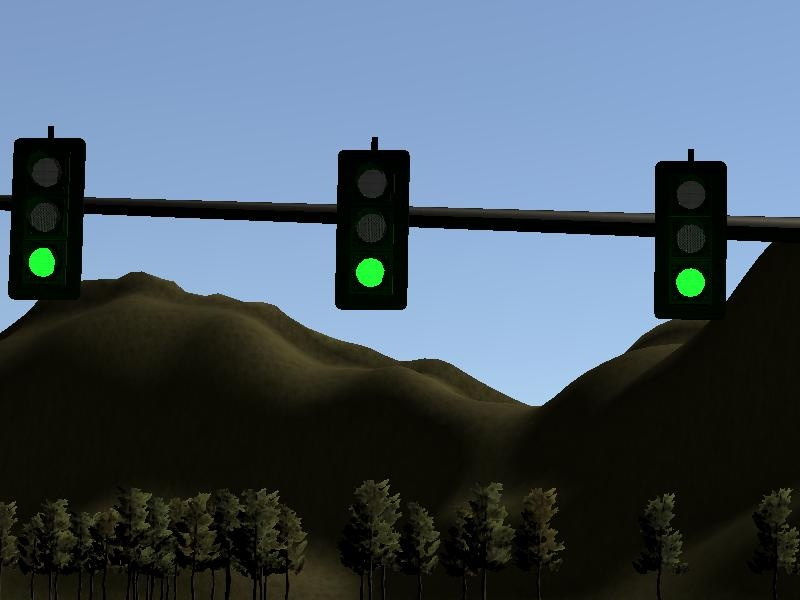GREEN: (651, 158, 732, 323), (334, 146, 409, 312), (10, 139, 84, 300)
